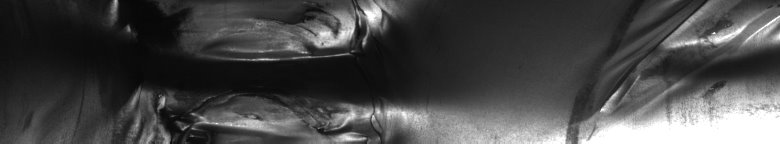ke: (108, 4, 416, 136)
